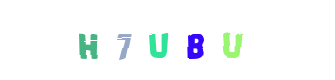7: (92, 0, 172, 80)
B: (155, 0, 235, 80)
H: (81, 0, 161, 80)
U: (127, 0, 207, 80), (192, 0, 272, 80)
